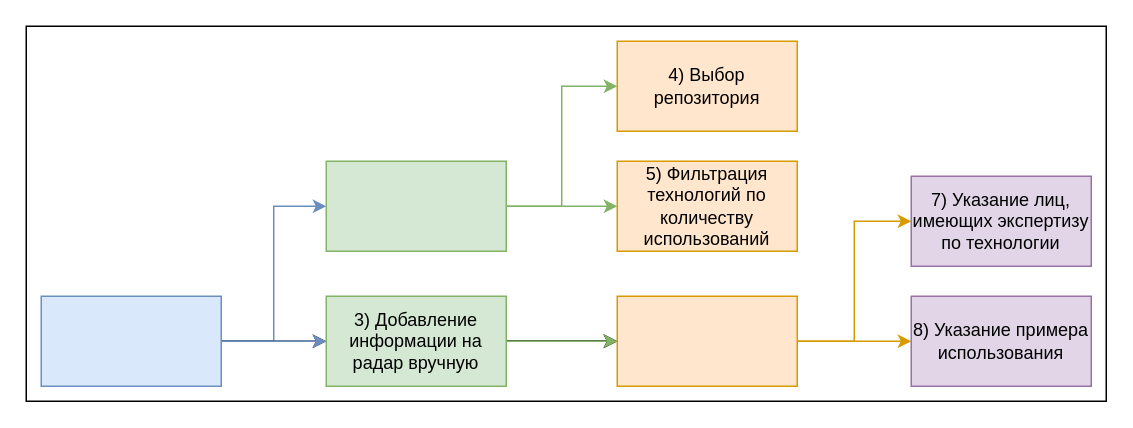
The diagram is 1133 pixels wide and 428 high, and some of its shapes have lost their labels. Here are the shapes that lost their labels. From the top down, the centre of each, then its label:
(415,205): 2) Парсинг данных из репозиториев
(130,340): 1) Заполнение технологического радара
(706,340): 6) Создание карточки технологии
